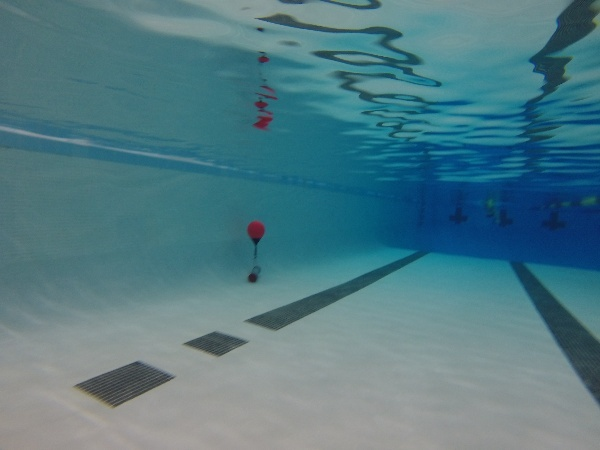buoy_red: (243, 219, 267, 245)
